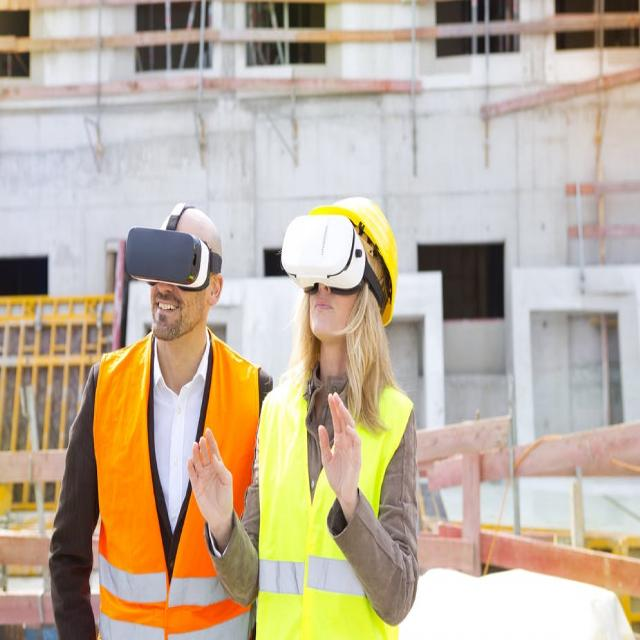Reflective-Jacket: (89, 330, 259, 640), (251, 374, 420, 636)
Safety-Helmet: (308, 186, 404, 298)
